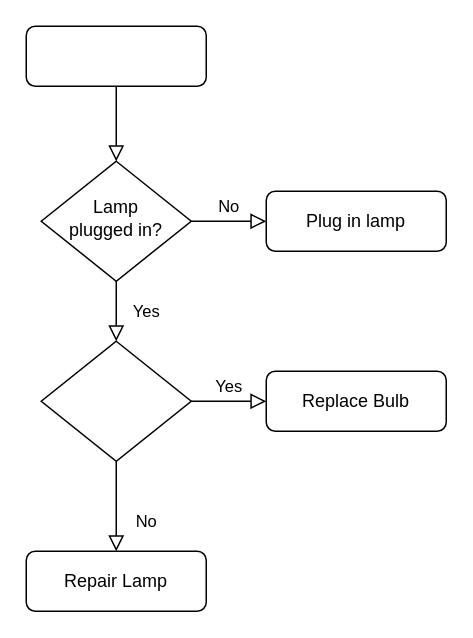
The diagram is 473 pixels wide and 638 high, and some of its shapes have lost their labels. Each missing label, with the box of its shape:
Bulb burned out?: (40, 340, 191, 461)
Pin '1234': (25, 25, 206, 86)
